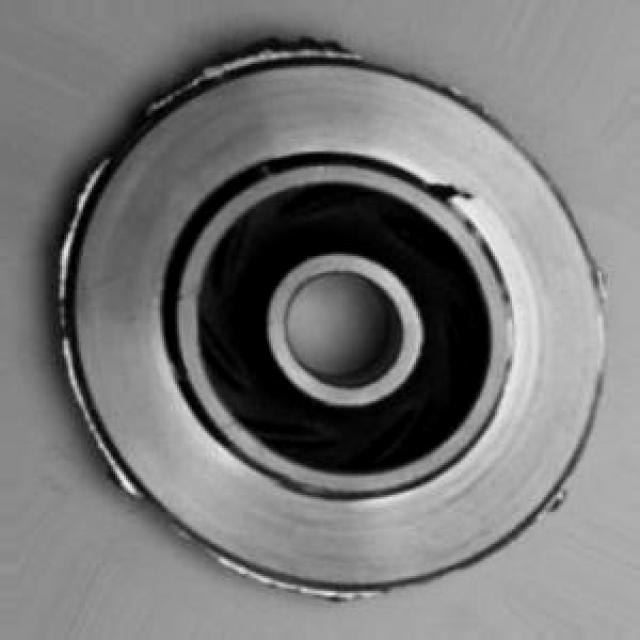Defect: (416, 166, 474, 212)
